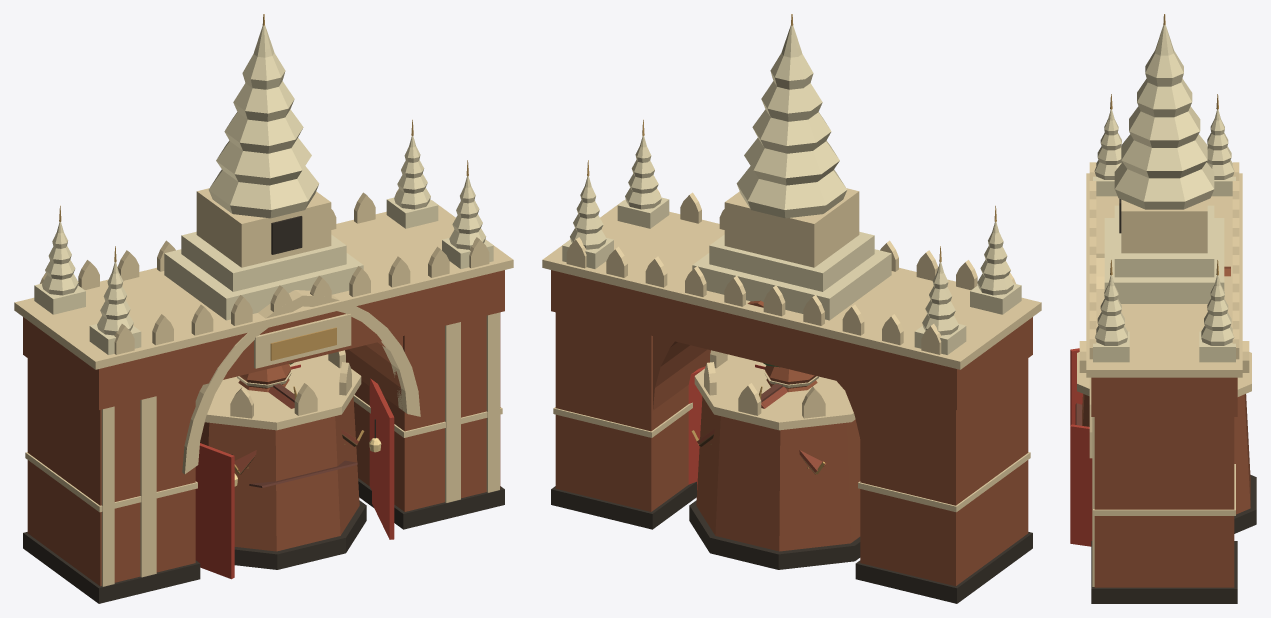
Rendered from ayutthaya-kit.glb.
3 views of the same model, side by side, from view 1: azimuth 30°, elevation 25°; view 2: azimuth 150°, elevation 25°; view 3: azimuth 270°, elevation 25° (orthographic). The views are drawn at different scales.
Parts seen in each view (by area): view 1: gate, bastion, shophouse, prang; view 2: gate, bastion, prang, shophouse; view 3: gate, bastion.
Part boxes in pixels (left/top/right/bottom): gate: left=14, top=14, right=513, bottom=603; bastion: left=200, top=350, right=366, bottom=569; shophouse: left=234, top=383, right=364, bottom=487; prang: left=237, top=364, right=291, bottom=392; gate: left=542, top=14, right=1041, bottom=603; bastion: left=689, top=350, right=860, bottom=569; prang: left=764, top=365, right=818, bottom=392; shophouse: left=691, top=383, right=826, bottom=474; gate: left=1070, top=14, right=1242, bottom=603; bastion: left=1077, top=341, right=1256, bottom=533.
Size of the model in its own units: 14 by 16.41 by 5.61.
